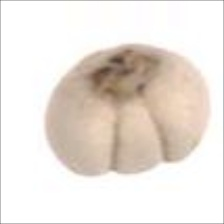L5: (84, 45, 170, 103), (107, 101, 169, 178)
L6: (44, 43, 213, 179)
